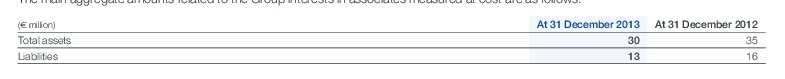table: (0, 0, 785, 79)
